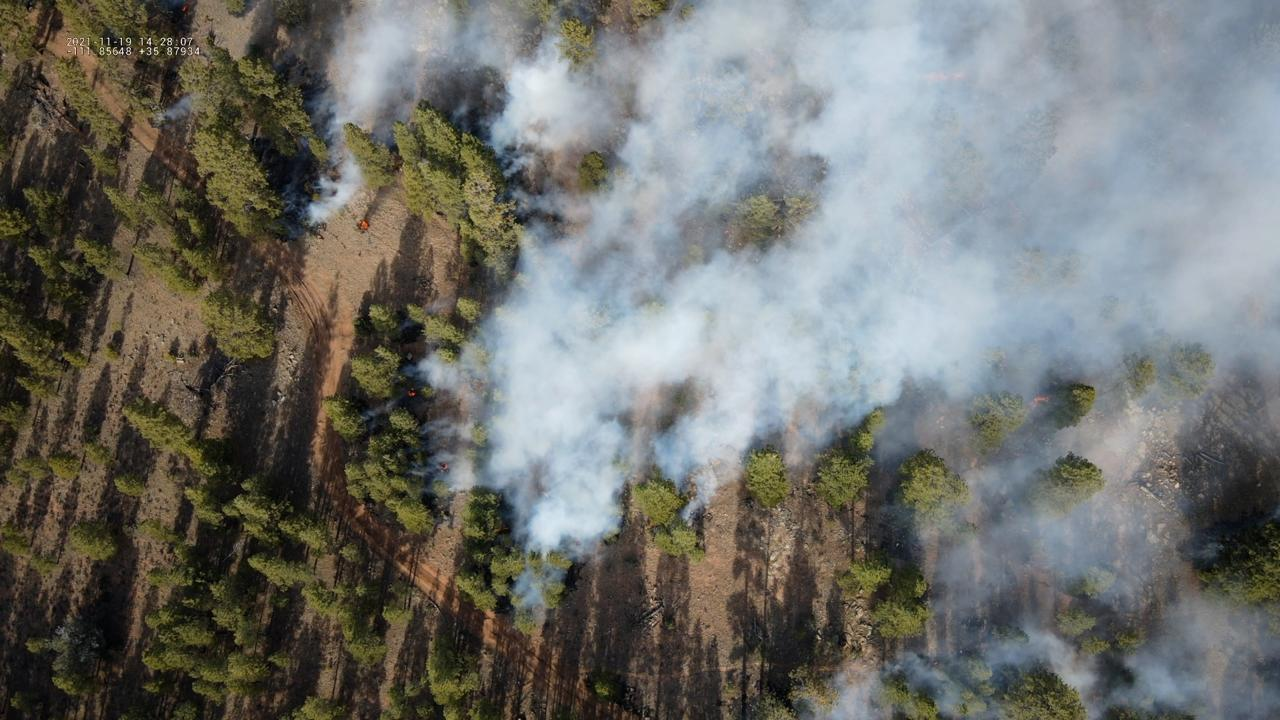fire: (918, 70, 965, 84), (1027, 395, 1049, 409), (359, 220, 369, 230), (439, 463, 449, 472), (181, 4, 190, 13), (408, 391, 416, 398)
smoke: (277, 0, 1280, 720), (157, 93, 201, 123)
